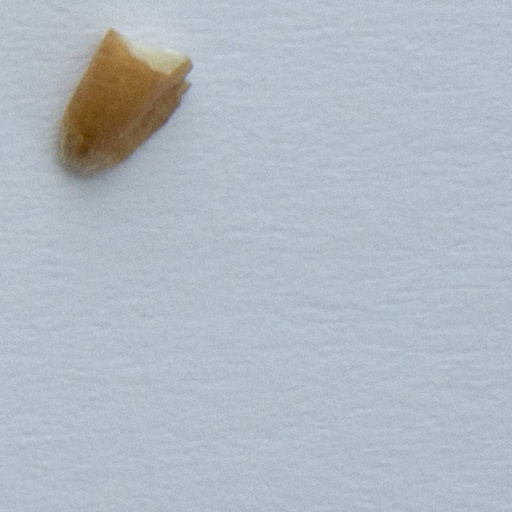Wheat-grain-damaged-poly: (54, 26, 195, 175)
